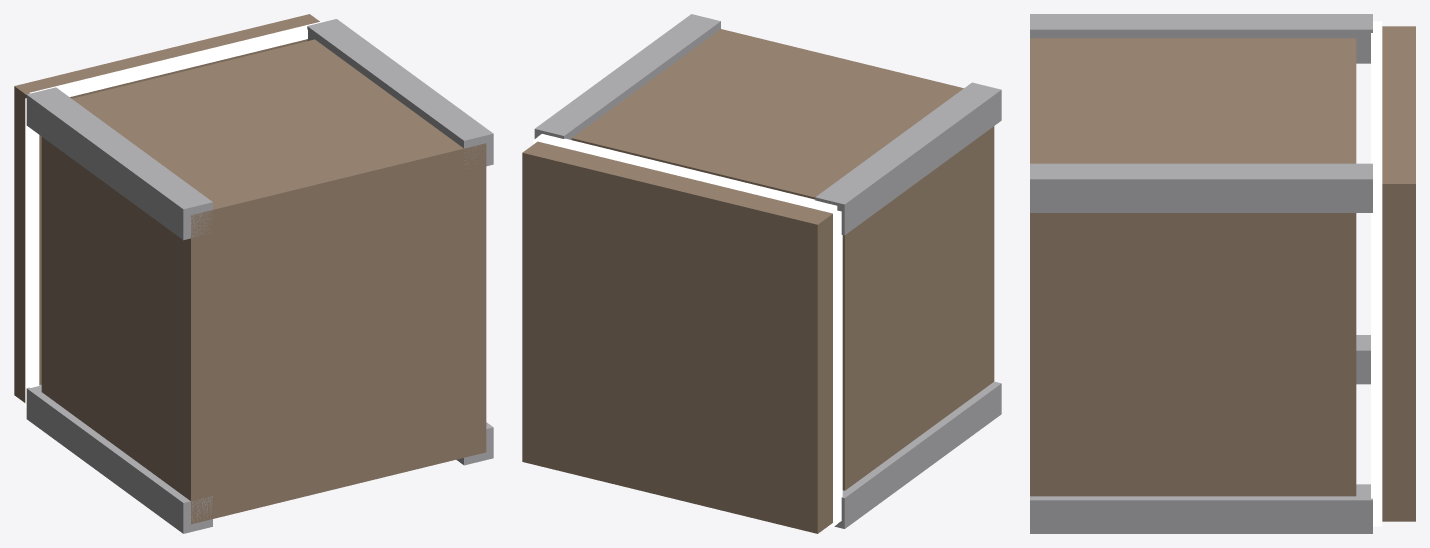
The model's file is crate_common.glb.
The picture shows the model from 3 angles, left to right: view 1: azimuth 30°, elevation 25°; view 2: azimuth 150°, elevation 25°; view 3: azimuth 270°, elevation 25°; orthographic projection. The views are drawn at different scales.
Visible parts, largest first — view 1: crate_body, lid_q3, seam_left, seam_back, lid_q1, lid_q4; view 2: crate_body, lid_q3, lid_q1, lid_q4, lid_q2, seam_left, seam_back; view 3: crate_body, lid_q4, lid_q2, seam_right, lid_q3, seam_back.
Boxes of the visible parts, left/top/right/bottom form: crate_body: left=26, top=19, right=493, bottom=533; lid_q3: left=14, top=50, right=178, bottom=250; seam_left: left=25, top=98, right=39, bottom=408; seam_back: left=29, top=20, right=325, bottom=96; lid_q1: left=14, top=241, right=41, bottom=402; lid_q4: left=162, top=14, right=319, bottom=72; crate_body: left=534, top=14, right=1001, bottom=528; lid_q3: left=670, top=177, right=832, bottom=379; lid_q1: left=670, top=343, right=832, bottom=533; lid_q4: left=522, top=141, right=684, bottom=343; lid_q2: left=522, top=307, right=669, bottom=497; seam_left: left=833, top=210, right=842, bottom=523; seam_back: left=537, top=134, right=837, bottom=213; crate_body: left=1030, top=14, right=1372, bottom=533; lid_q4: left=1382, top=105, right=1415, bottom=352; lid_q2: left=1382, top=352, right=1415, bottom=521; seam_right: left=1371, top=184, right=1382, bottom=523; lid_q3: left=1382, top=26, right=1415, bottom=104; seam_back: left=1371, top=21, right=1382, bottom=183.
Bounding box in the file's own units: 1.05 × 1.05 × 1.03.
